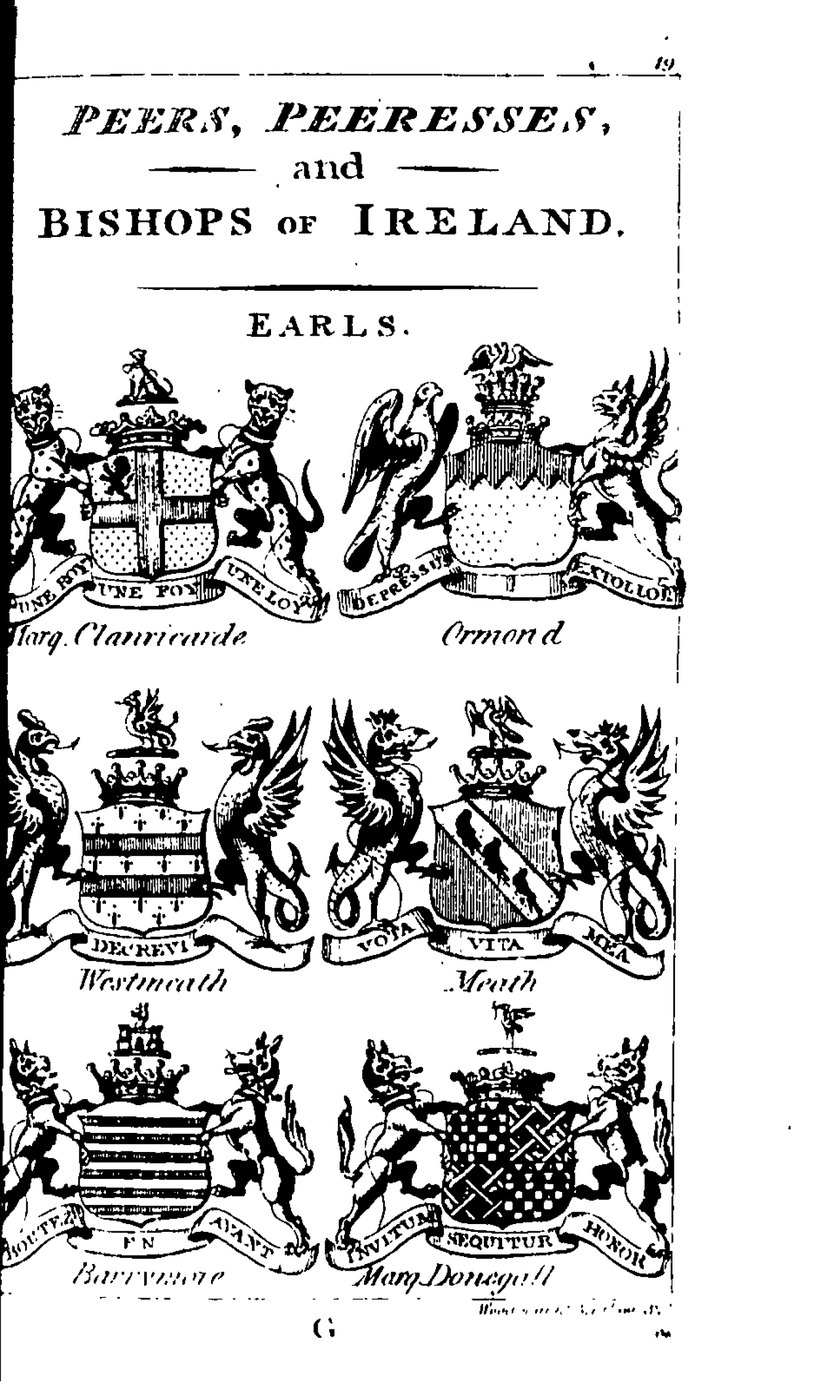coat_of_arms: (335, 335, 692, 672), (322, 683, 681, 1000), (320, 1001, 673, 1304), (8, 348, 331, 664), (8, 687, 316, 1007), (6, 1000, 322, 1298)
